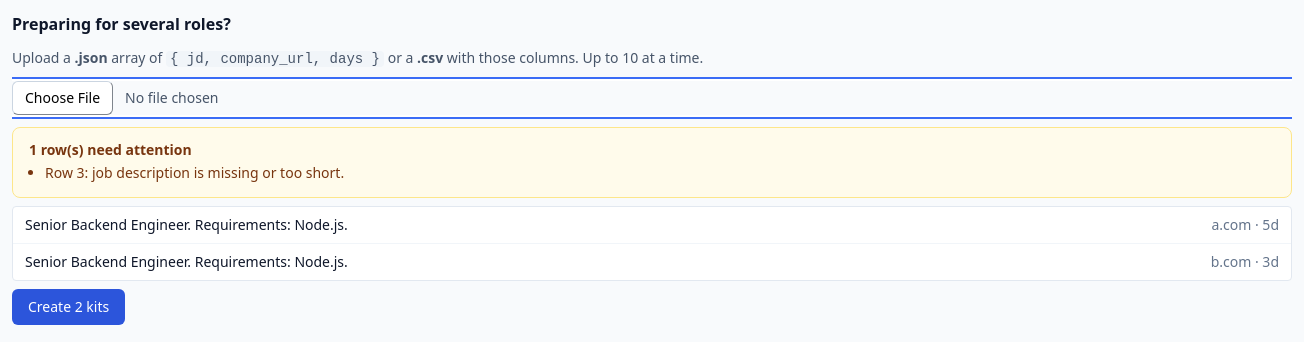
it: BatchUpload › previews valid rows and warnings, then submits and reports results
Earlier steps of the test are not shown.
Expected: the text "1 row(s) need attention" is shown, x1=29 y1=140 x2=192 y2=159
Expected: the text "a.com · 5d" is shown, x1=1211 y1=215 x2=1279 y2=235
Click the button "Create 2 kits".
click(69, 307)  # box x1=12 y1=289 x2=125 y2=325
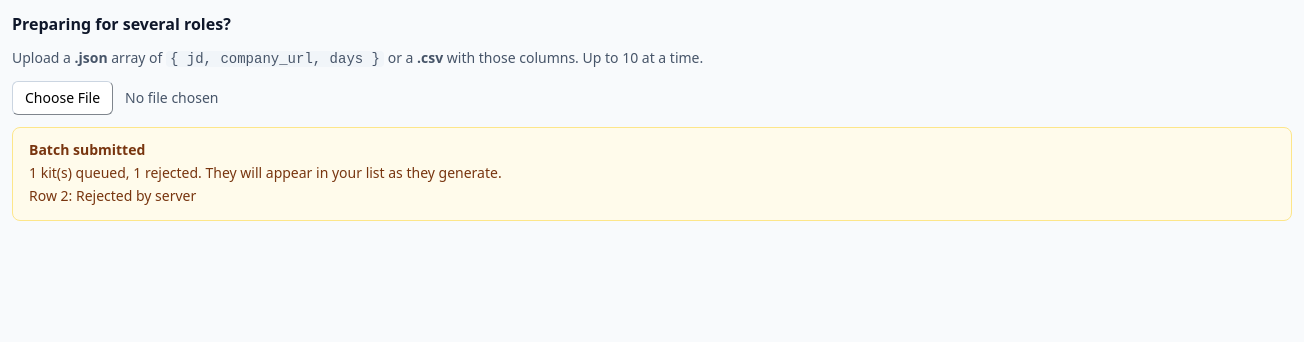
Expected: the text "1 kit(s) queued, 1 rejected" is shown, x1=29 y1=162 x2=502 y2=208
Expected: the text "Row 2: Rejected by server" is shown, x1=29 y1=186 x2=196 y2=205
